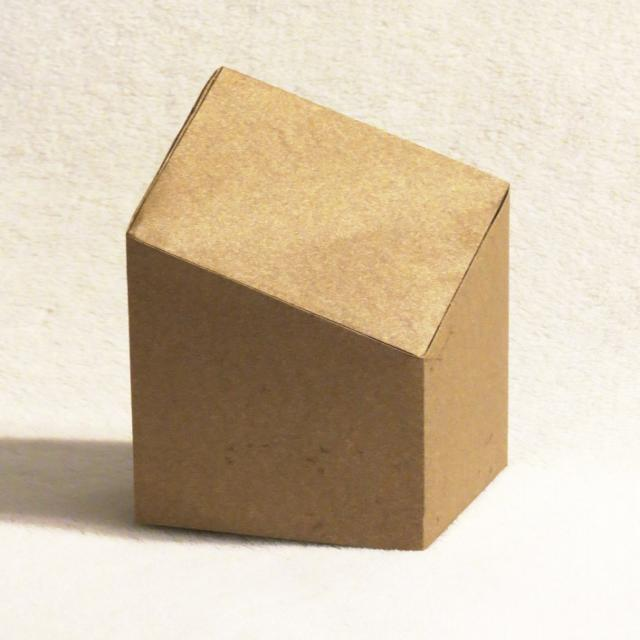Box: (126, 65, 515, 551)
